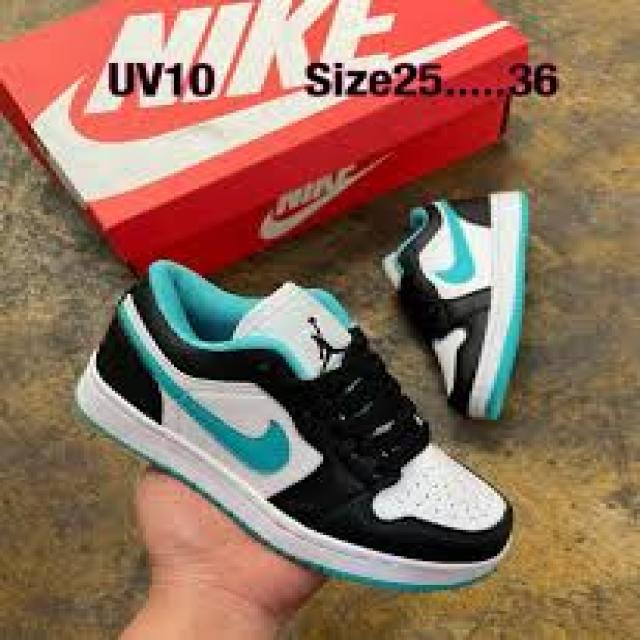shoes: (77, 257, 513, 589), (381, 190, 534, 429)
